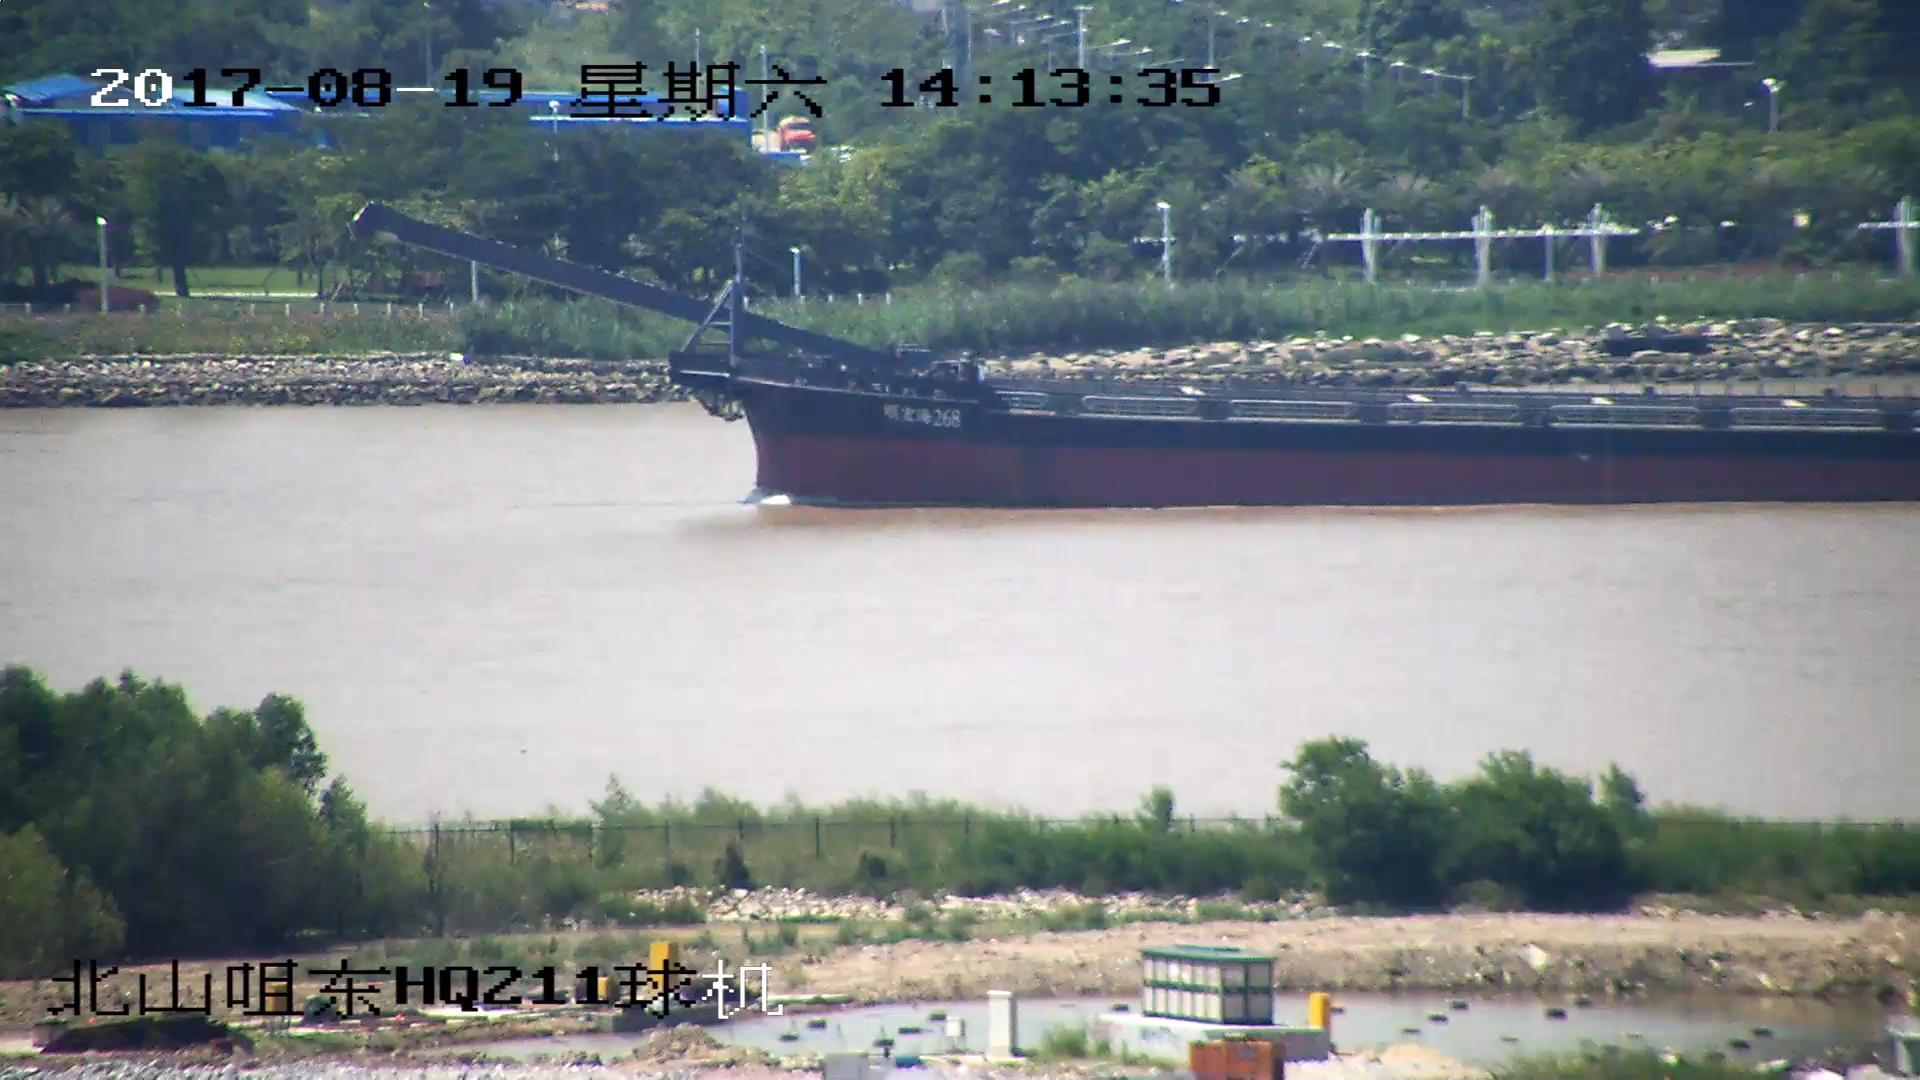Ship: (363, 203, 1920, 509)
